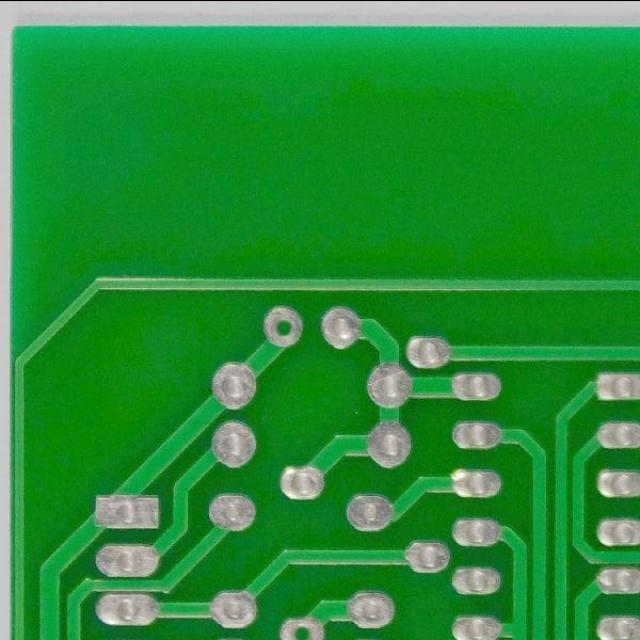Missing_Hole: (256, 303, 310, 352), (272, 612, 330, 640)
